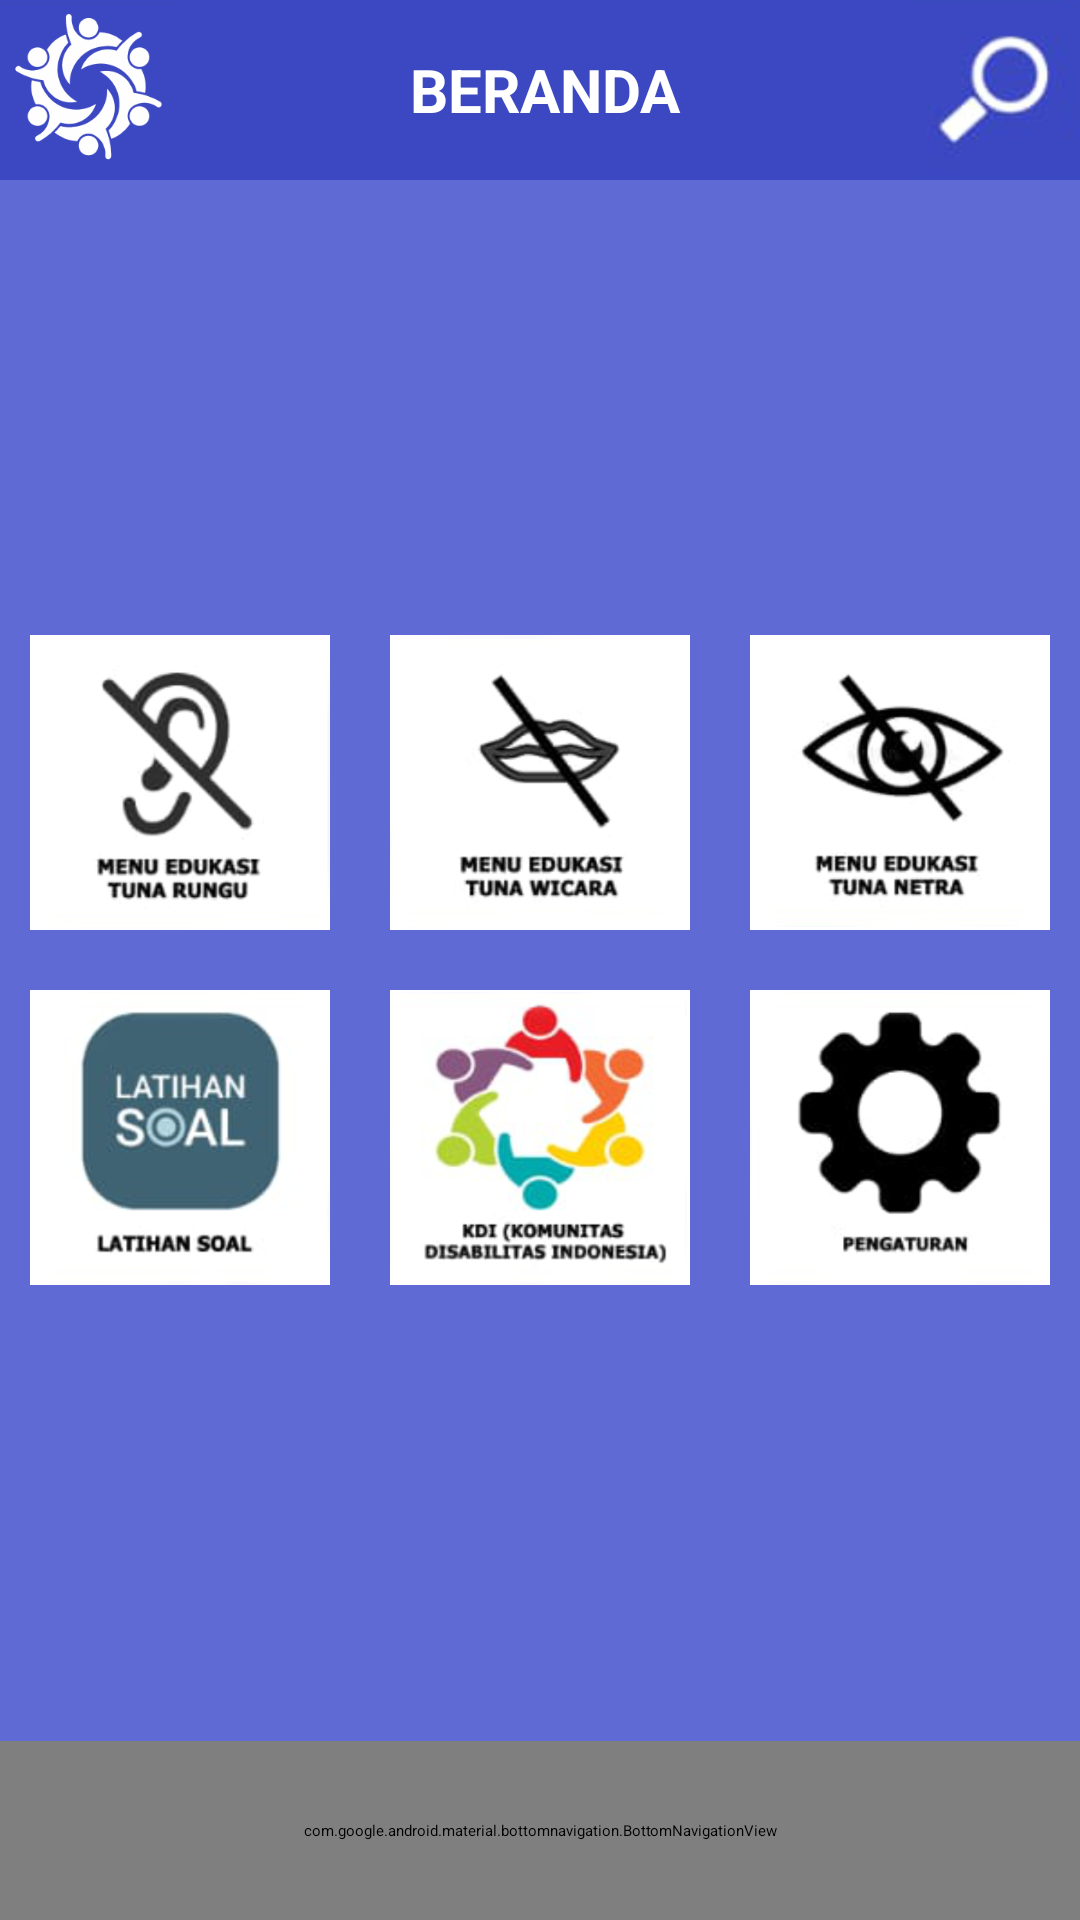

Icons on this 1080 × 1920 Android screen, each with the point to tap as point (x, y):
circle nav: point (88, 87)
search nav: point (994, 89)
